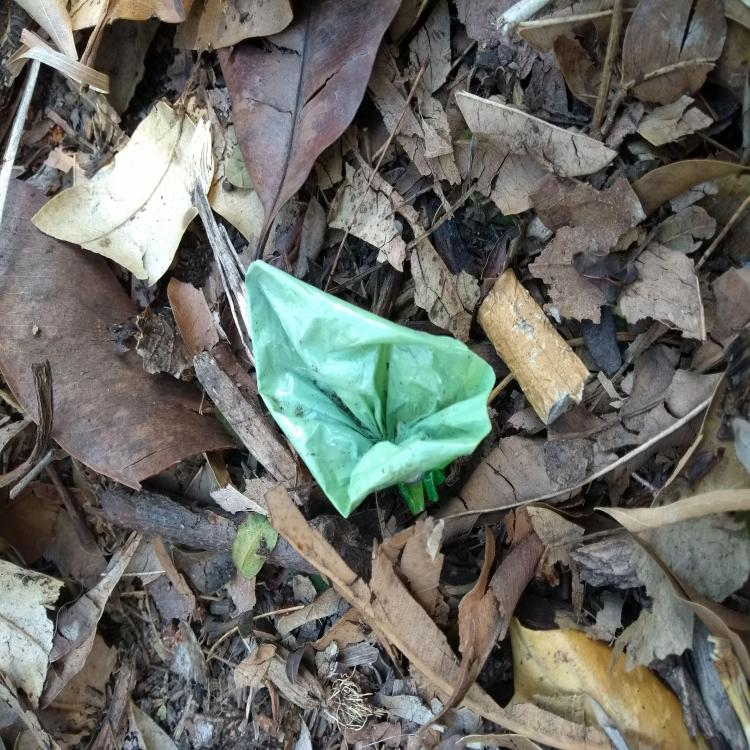Cigarette: (477, 268, 591, 426)
Plastic film: (244, 260, 496, 518)
